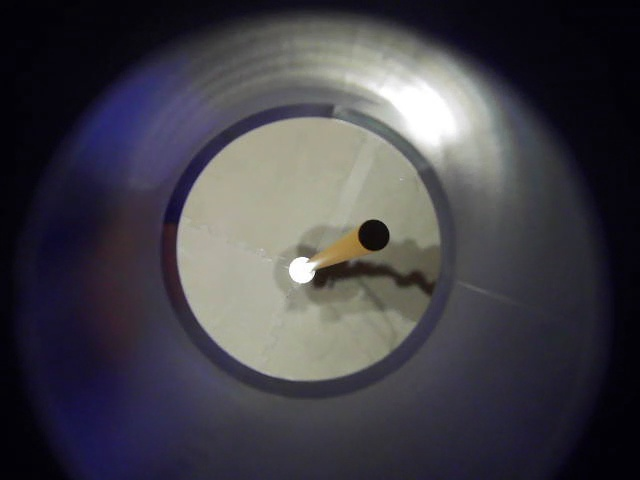tip: (344, 213, 393, 258)
